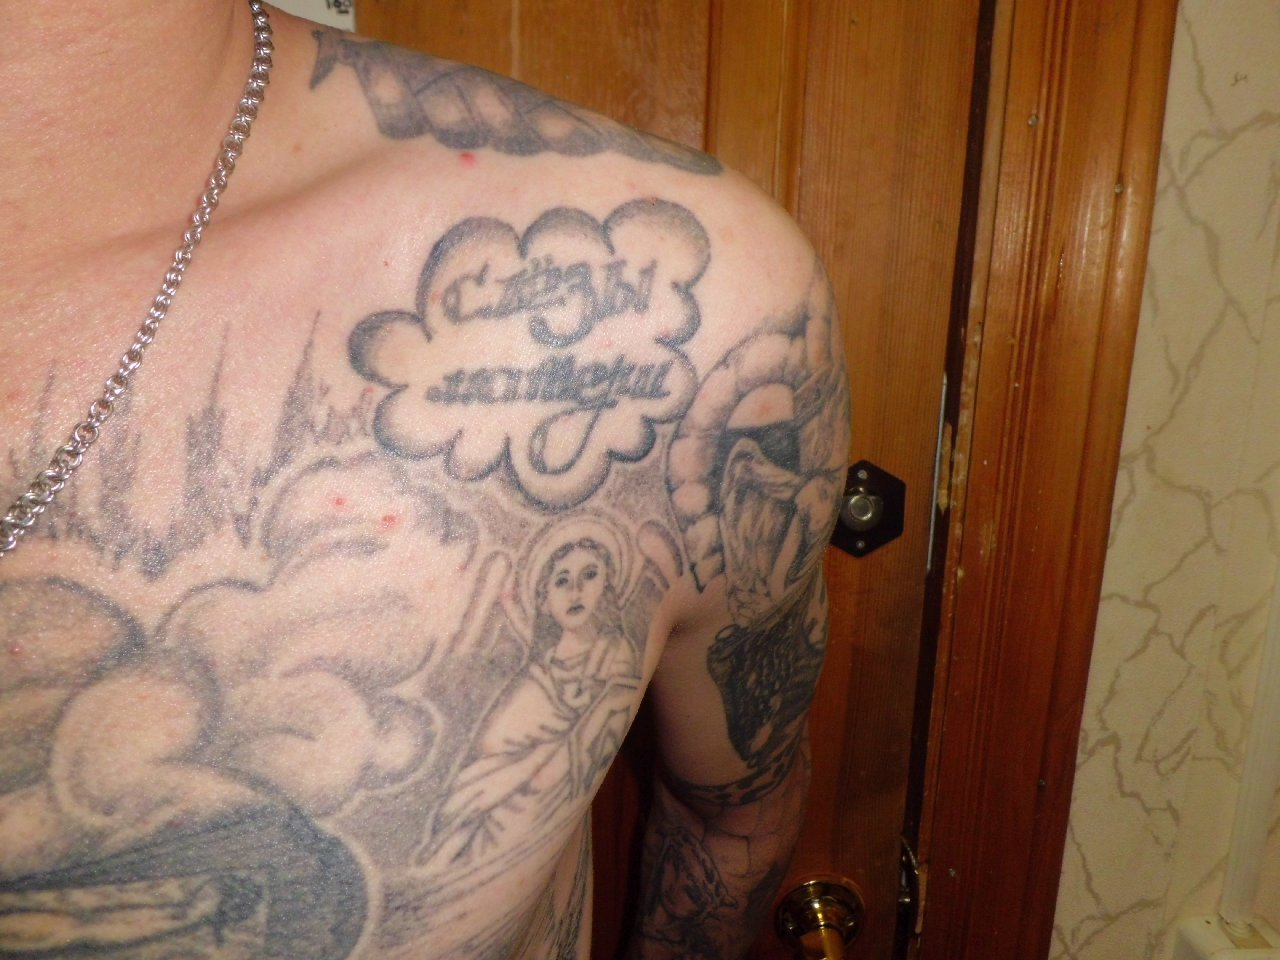tatu1_angel: (492, 526, 658, 915)
tatu3_bukva: (379, 204, 690, 479)
